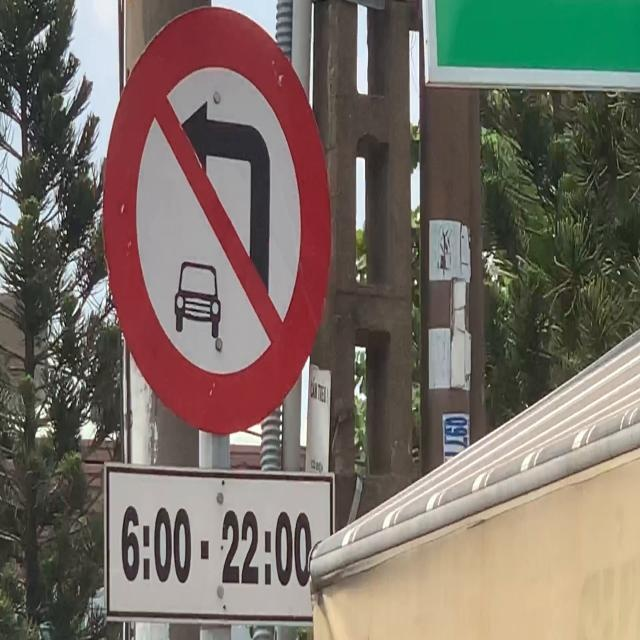bien_cam: (101, 5, 333, 438)
